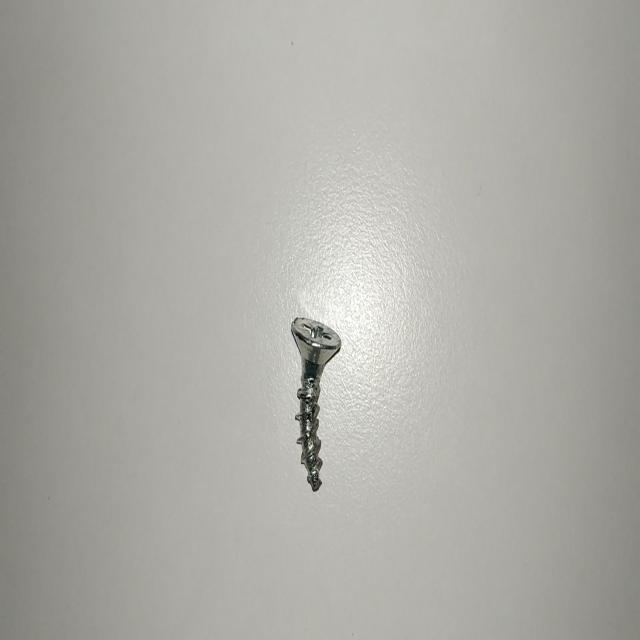Dry Waste: (215, 292, 472, 532)
